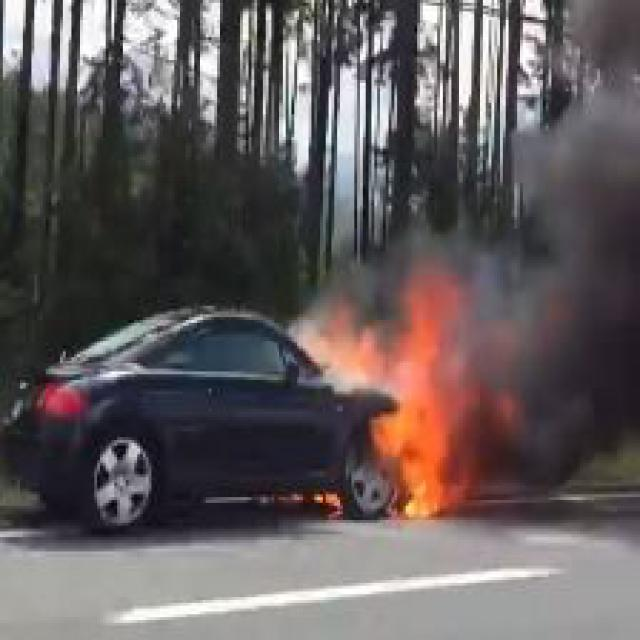fire: (280, 228, 534, 532)
